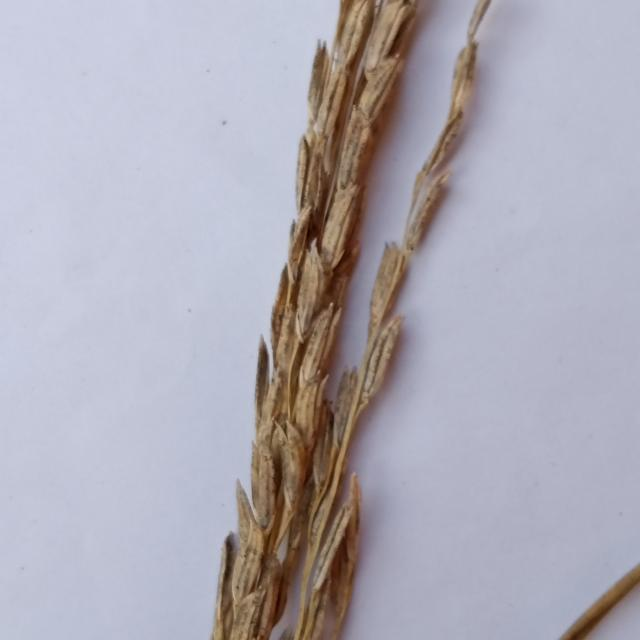Neck_Blast: (210, 0, 502, 640)
